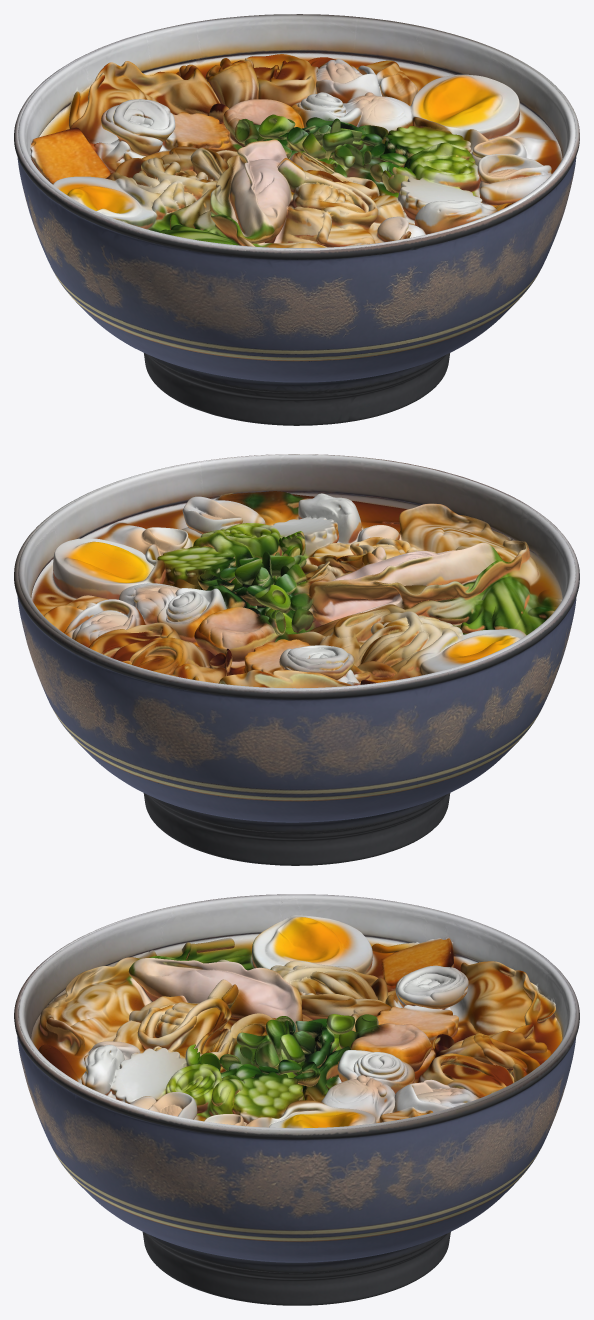
The model's file is Agedashi-Tofu1.glb.
3 views of the same model, one above another, from view 1: azimuth 30°, elevation 25°; view 2: azimuth 150°, elevation 25°; view 3: azimuth 270°, elevation 25° (orthographic).
Visible parts, largest first — view 1: tripo_node_91efc9bc-b8bc-467d-863a-9f23a0cf914c; view 2: tripo_node_91efc9bc-b8bc-467d-863a-9f23a0cf914c; view 3: tripo_node_91efc9bc-b8bc-467d-863a-9f23a0cf914c.
Part boxes in pixels (x1,y1,x2,y2): tripo_node_91efc9bc-b8bc-467d-863a-9f23a0cf914c: (14,14,579,425); tripo_node_91efc9bc-b8bc-467d-863a-9f23a0cf914c: (14,454,579,865); tripo_node_91efc9bc-b8bc-467d-863a-9f23a0cf914c: (14,894,579,1305).
Bounding box in the file's own units: 0.2936 × 0.1376 × 0.2937.
Materials: 1 (1 with a texture image).
